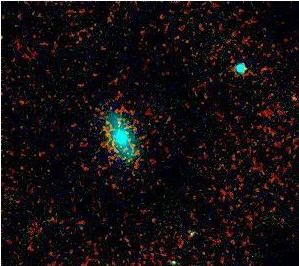star: (177, 220, 207, 250)
